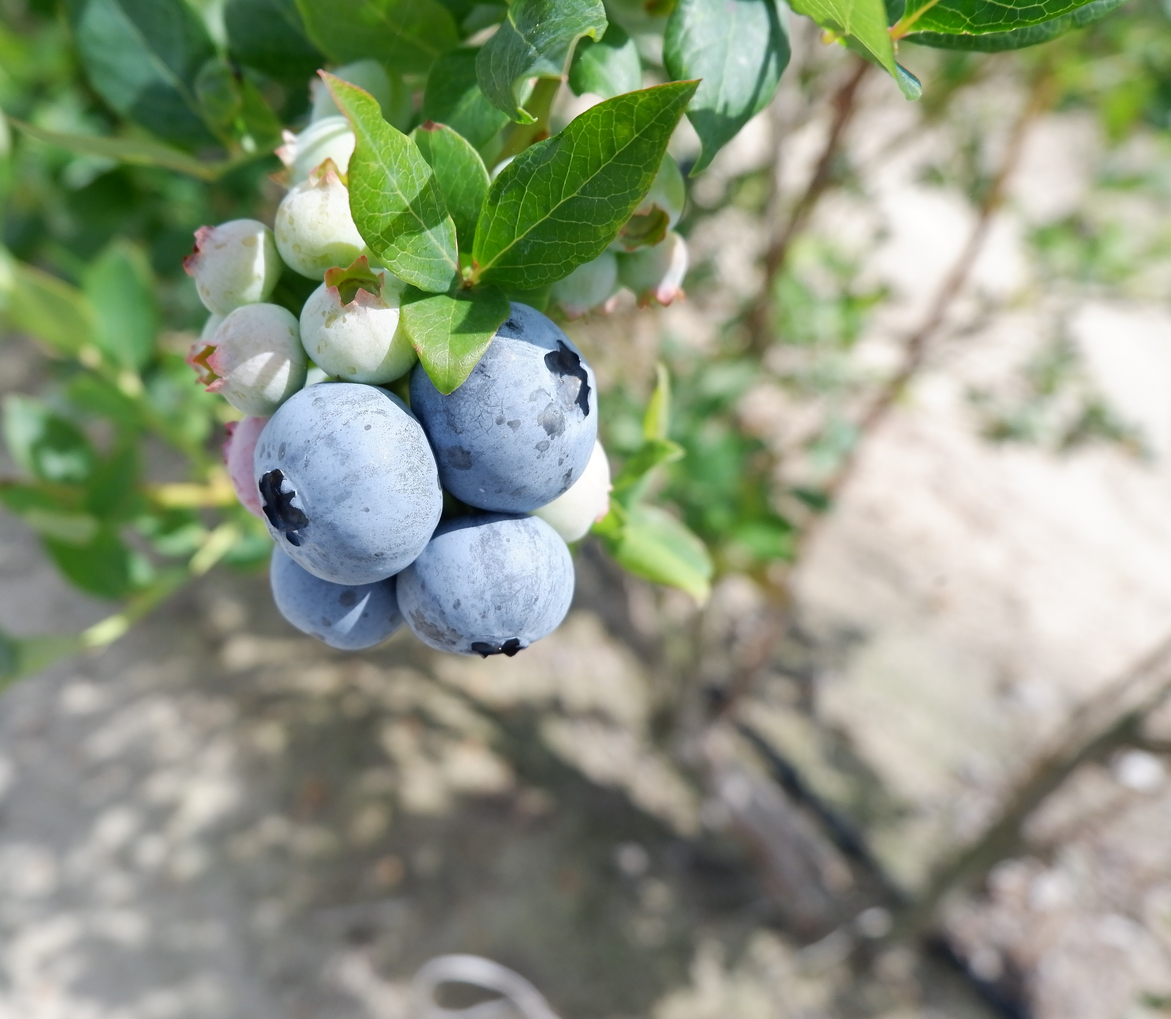Immature: (302, 259, 411, 379), (194, 306, 305, 412), (275, 163, 367, 278), (186, 221, 282, 312), (605, 151, 687, 253), (541, 445, 607, 541), (270, 118, 357, 187), (544, 248, 619, 322), (617, 231, 687, 302), (221, 416, 267, 519)
Mature: (408, 309, 594, 509), (255, 387, 442, 581), (395, 515, 571, 655), (271, 548, 401, 647)
